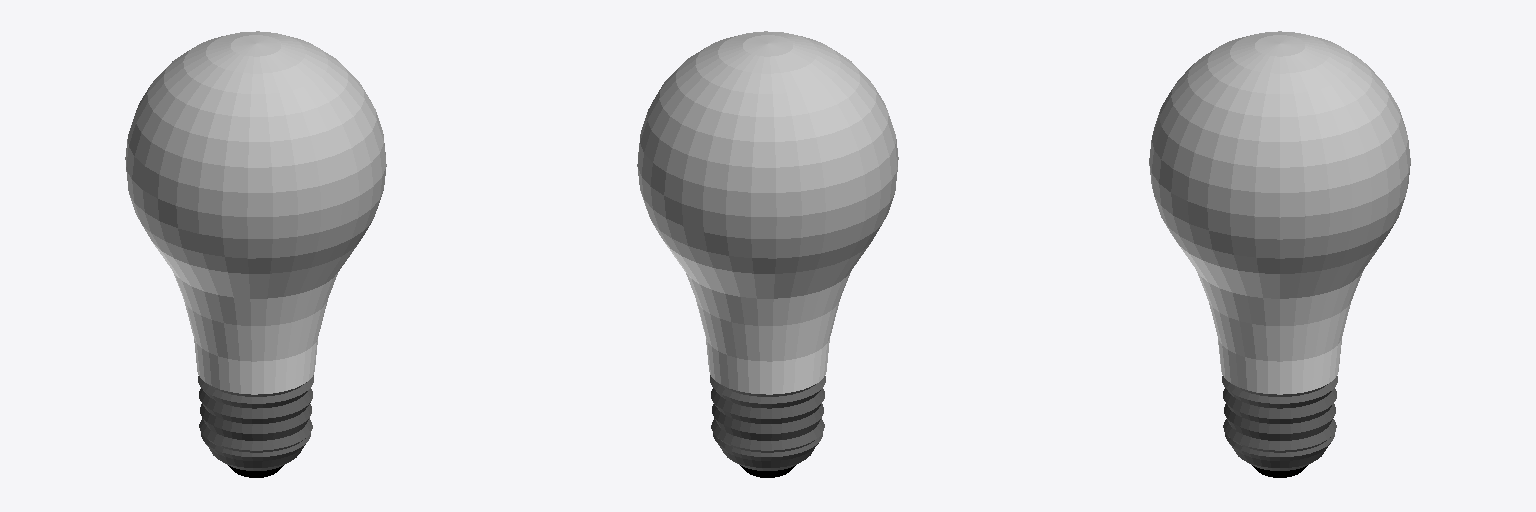
File: berbahaya2.obj
3 views of the same model, side by side, from view 1: azimuth 30°, elevation 25°; view 2: azimuth 150°, elevation 25°; view 3: azimuth 270°, elevation 25° (orthographic).
Visible parts, largest first — view 1: Sphere_Sphere.001; view 2: Sphere_Sphere.001; view 3: Sphere_Sphere.001.
Part boxes in pixels (left/top/right/bottom): Sphere_Sphere.001: left=125, top=31, right=386, bottom=477; Sphere_Sphere.001: left=637, top=31, right=898, bottom=477; Sphere_Sphere.001: left=1149, top=31, right=1410, bottom=477.
Size of the model in its own units: 5.2 by 9.31 by 5.2.